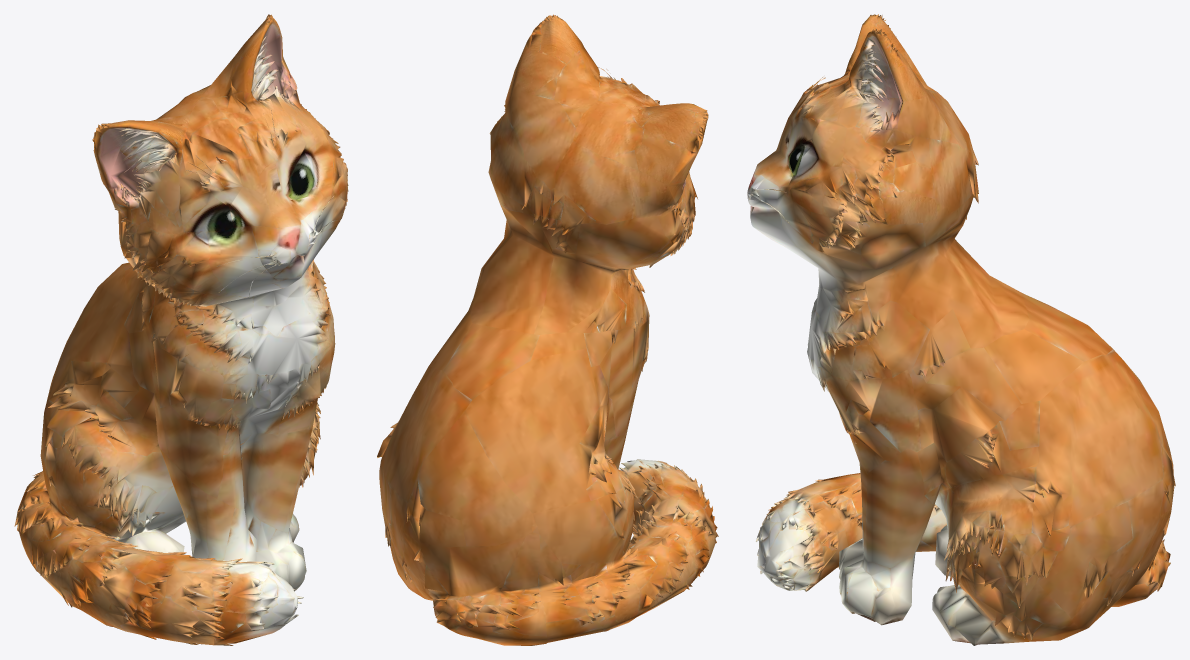
File: cartoon-cat.glb
The picture shows the model from 3 angles, left to right: view 1: azimuth 30°, elevation 25°; view 2: azimuth 150°, elevation 25°; view 3: azimuth 270°, elevation 25°; orthographic projection. The views are drawn at different scales.
Visible parts, largest first — view 1: cartoon-cat; view 2: cartoon-cat; view 3: cartoon-cat.
Part boxes in pixels (x1,y1,x2,y2): cartoon-cat: (14,14,348,645); cartoon-cat: (377,14,718,645); cartoon-cat: (747,14,1175,645).
Size of the model in its own units: 0.2098 by 0.3995 by 0.2646.
Materials: 1 (1 with a texture image).
